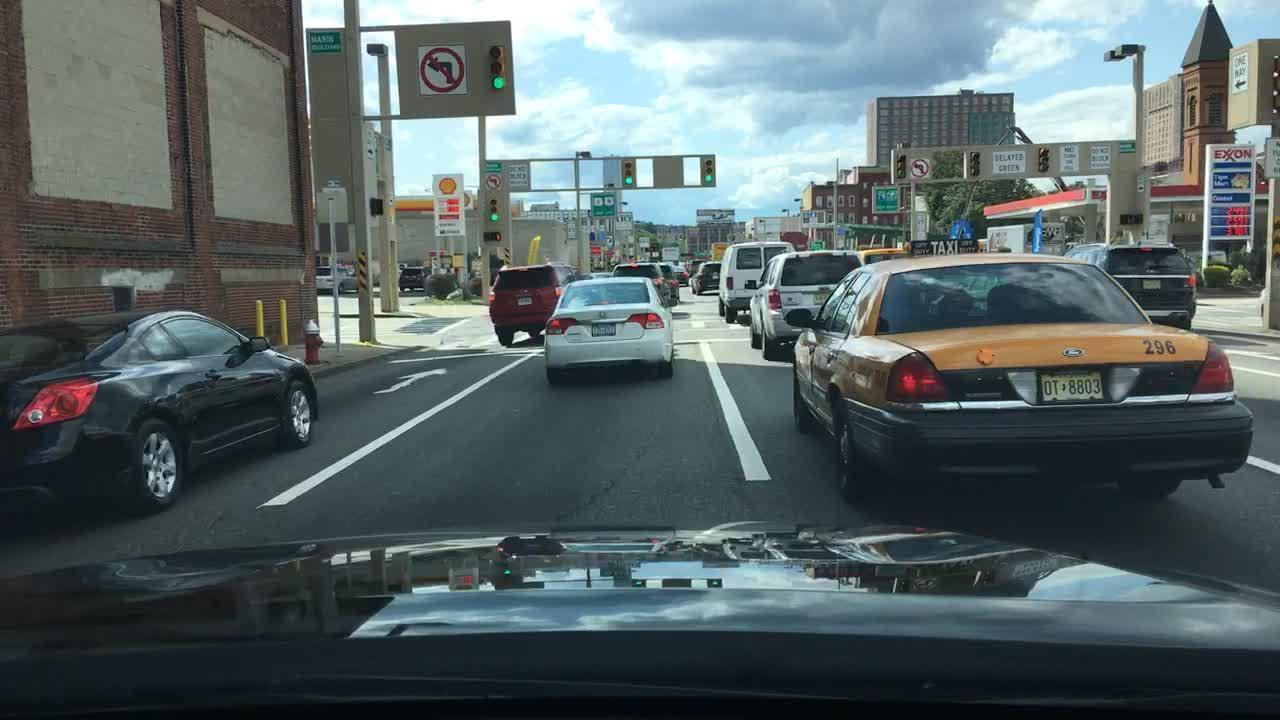Honda: (595, 307, 613, 322)
ford: (1059, 345, 1090, 359)
